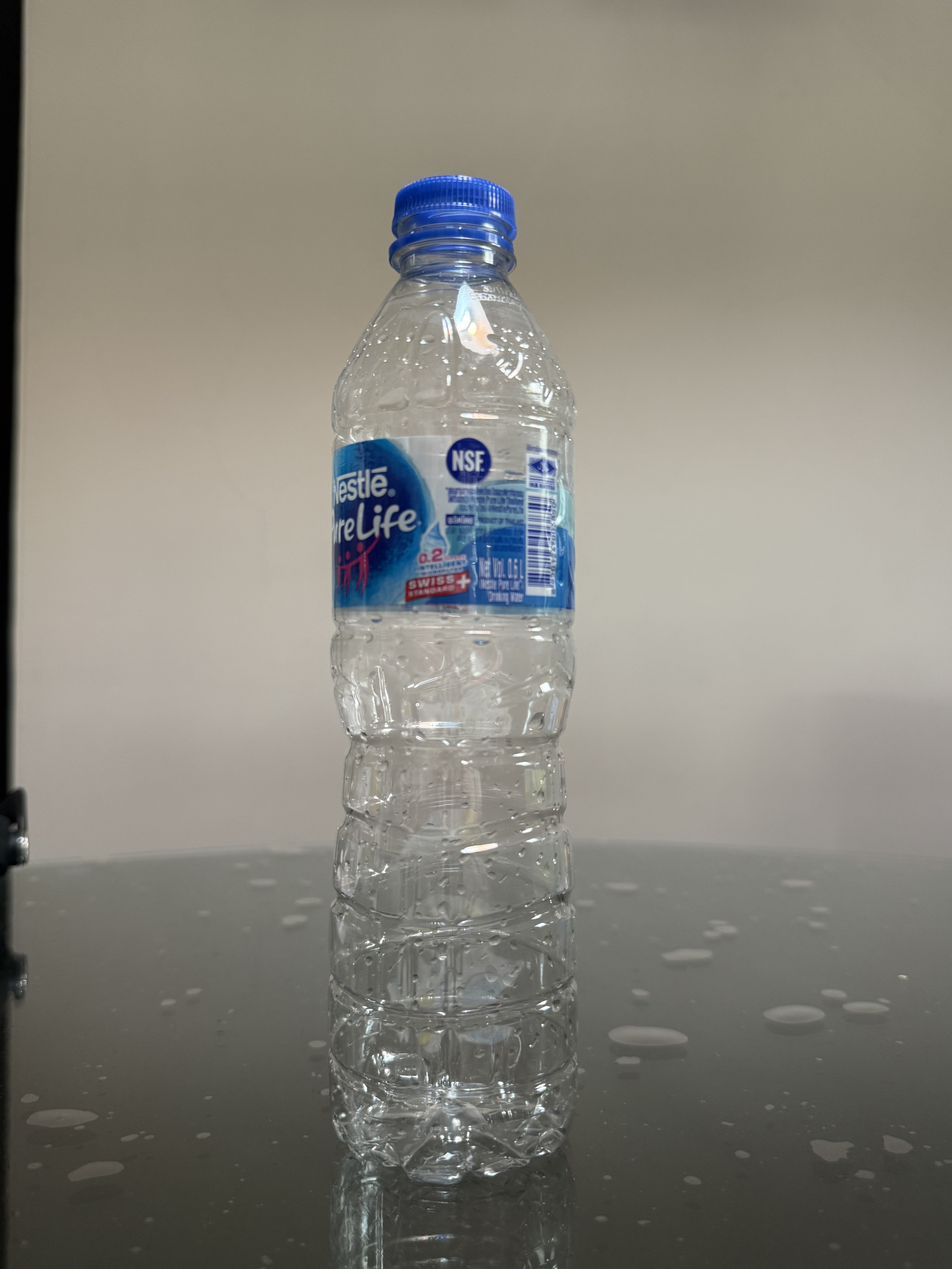half_cap: (385, 170, 520, 275)
